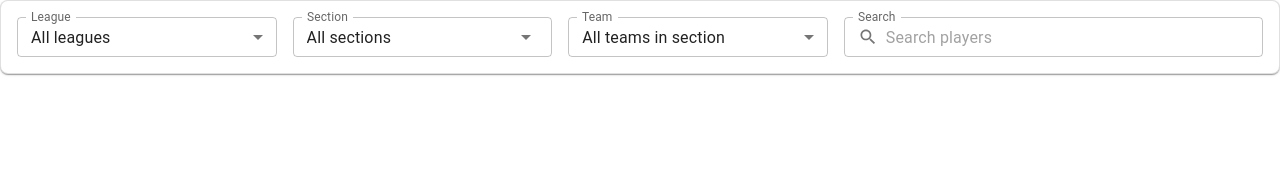
Scenario: FilterBar on desktop (docs/specs/083) › the Team field uses the passed "all" wording
Click the dropdown labelled "team".
click(654, 37)  # box [582,28,725,46]
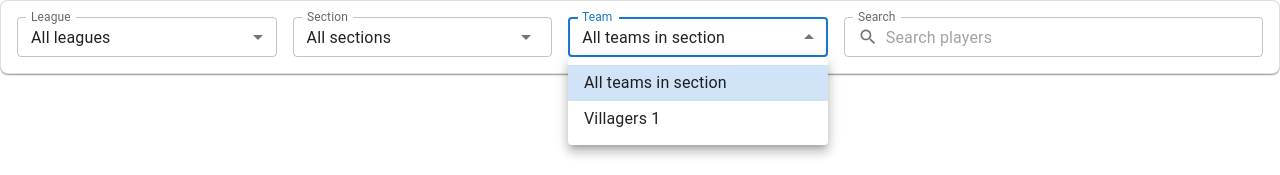
Expected: the option "All teams in section" is shown, [568,65,828,101]
